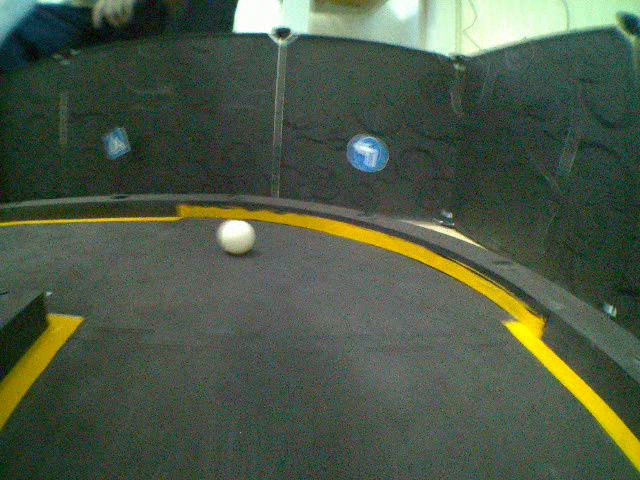ball: (217, 216, 255, 256)
